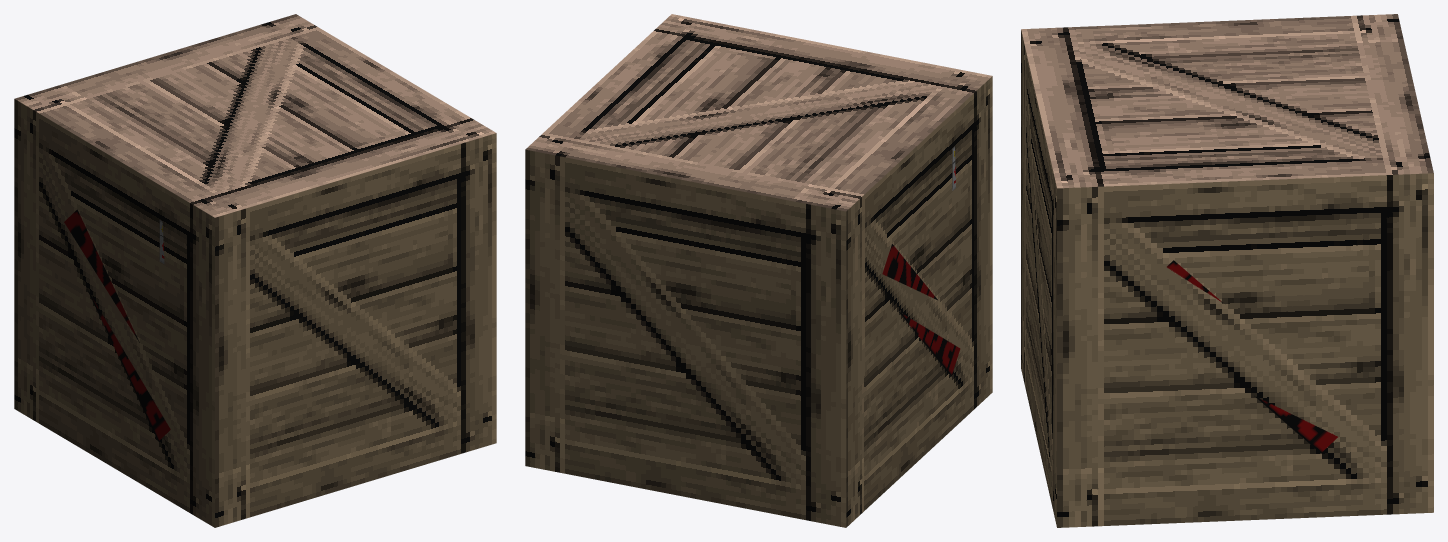
The model's file is primary_082.glb.
3 renders of one model, left to right at view 1: azimuth 30°, elevation 25°; view 2: azimuth 150°, elevation 25°; view 3: azimuth 270°, elevation 25°, orthographic. The views are drawn at different scales.
Visible parts, largest first — view 1: Object; view 2: Object; view 3: Object.
Part boxes in pixels (x1,y1,x2,y2): Object: (14,14,496,527); Object: (525,14,992,527); Object: (1021,14,1433,527).
Size of the model in its own units: 1.23 by 1.12 by 1.23.
Materials: 7 (7 with a texture image).
